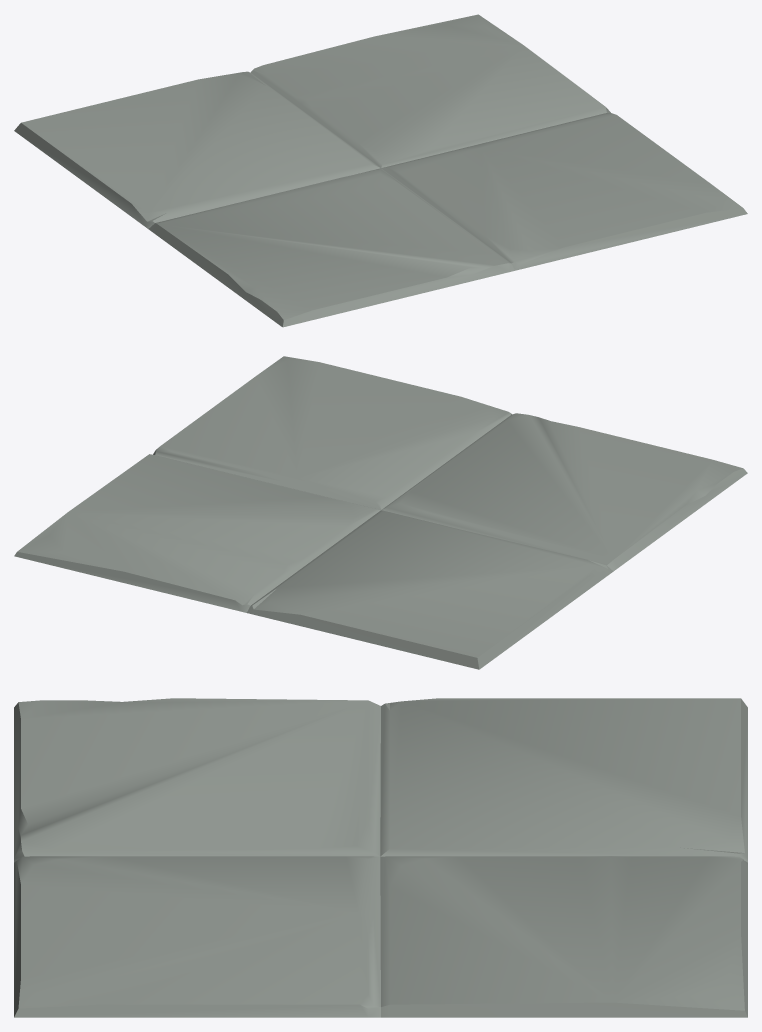
The model's file is SM_Env_Floor_02.fbx.
3 renders of one model, top to bottom at view 1: azimuth 30°, elevation 25°; view 2: azimuth 150°, elevation 25°; view 3: azimuth 270°, elevation 25°, orthographic. The views are drawn at different scales.
Visible parts, largest first — view 1: SM_Env_Floor_02; view 2: SM_Env_Floor_02; view 3: SM_Env_Floor_02.
Boxes of the visible parts, x1,y1,x2,y2 form: SM_Env_Floor_02: [14, 14, 747, 327]; SM_Env_Floor_02: [14, 356, 747, 669]; SM_Env_Floor_02: [14, 698, 747, 1017].
Size of the model in its own units: 149 by 2.74 by 149.
Materials: 1 (1 with a texture image).
